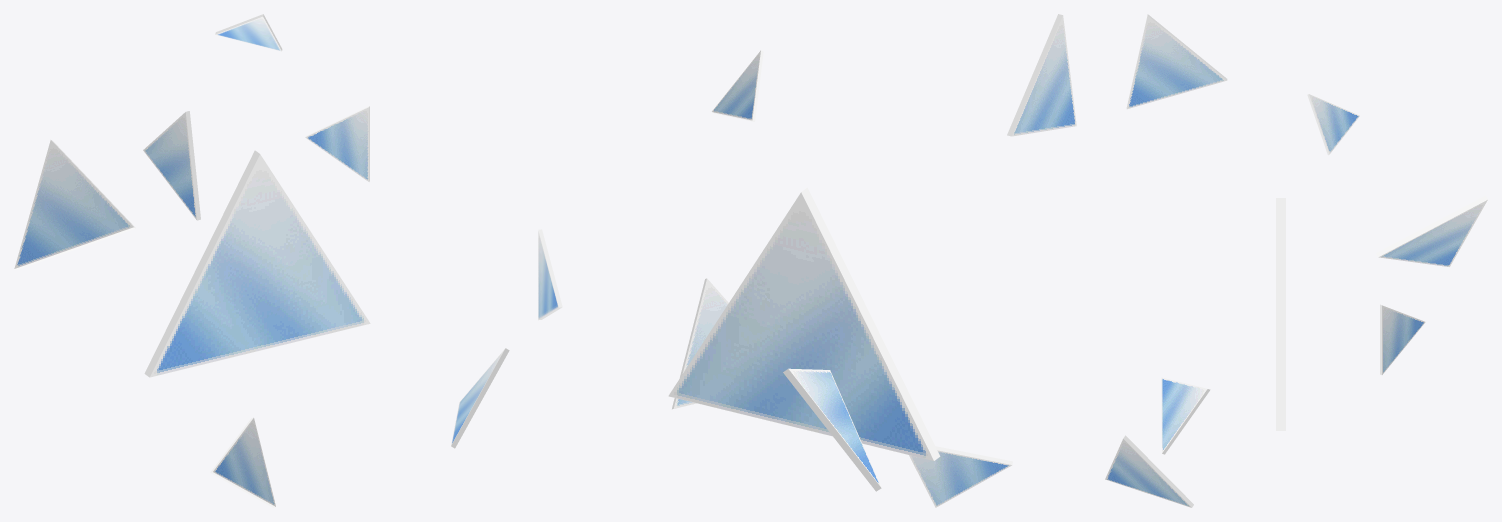
Rendered from ps2_save-icons_fragmentsblue.glb.
The picture shows the model from 3 angles, left to right: view 1: azimuth 30°, elevation 25°; view 2: azimuth 150°, elevation 25°; view 3: azimuth 270°, elevation 25°; orthographic projection. The views are drawn at different scales.
Parts seen in each view (by area): view 1: pieta.ico; view 2: pieta.ico; view 3: pieta.ico.
Boxes of the visible parts, x1,y1,x2,y2 form: pieta.ico: (14, 14, 509, 507); pieta.ico: (538, 14, 1076, 507); pieta.ico: (1105, 14, 1487, 507).
Bounding box in the file's own units: 2.63 × 3.34 × 2.92.
1 material, 1 textured.
